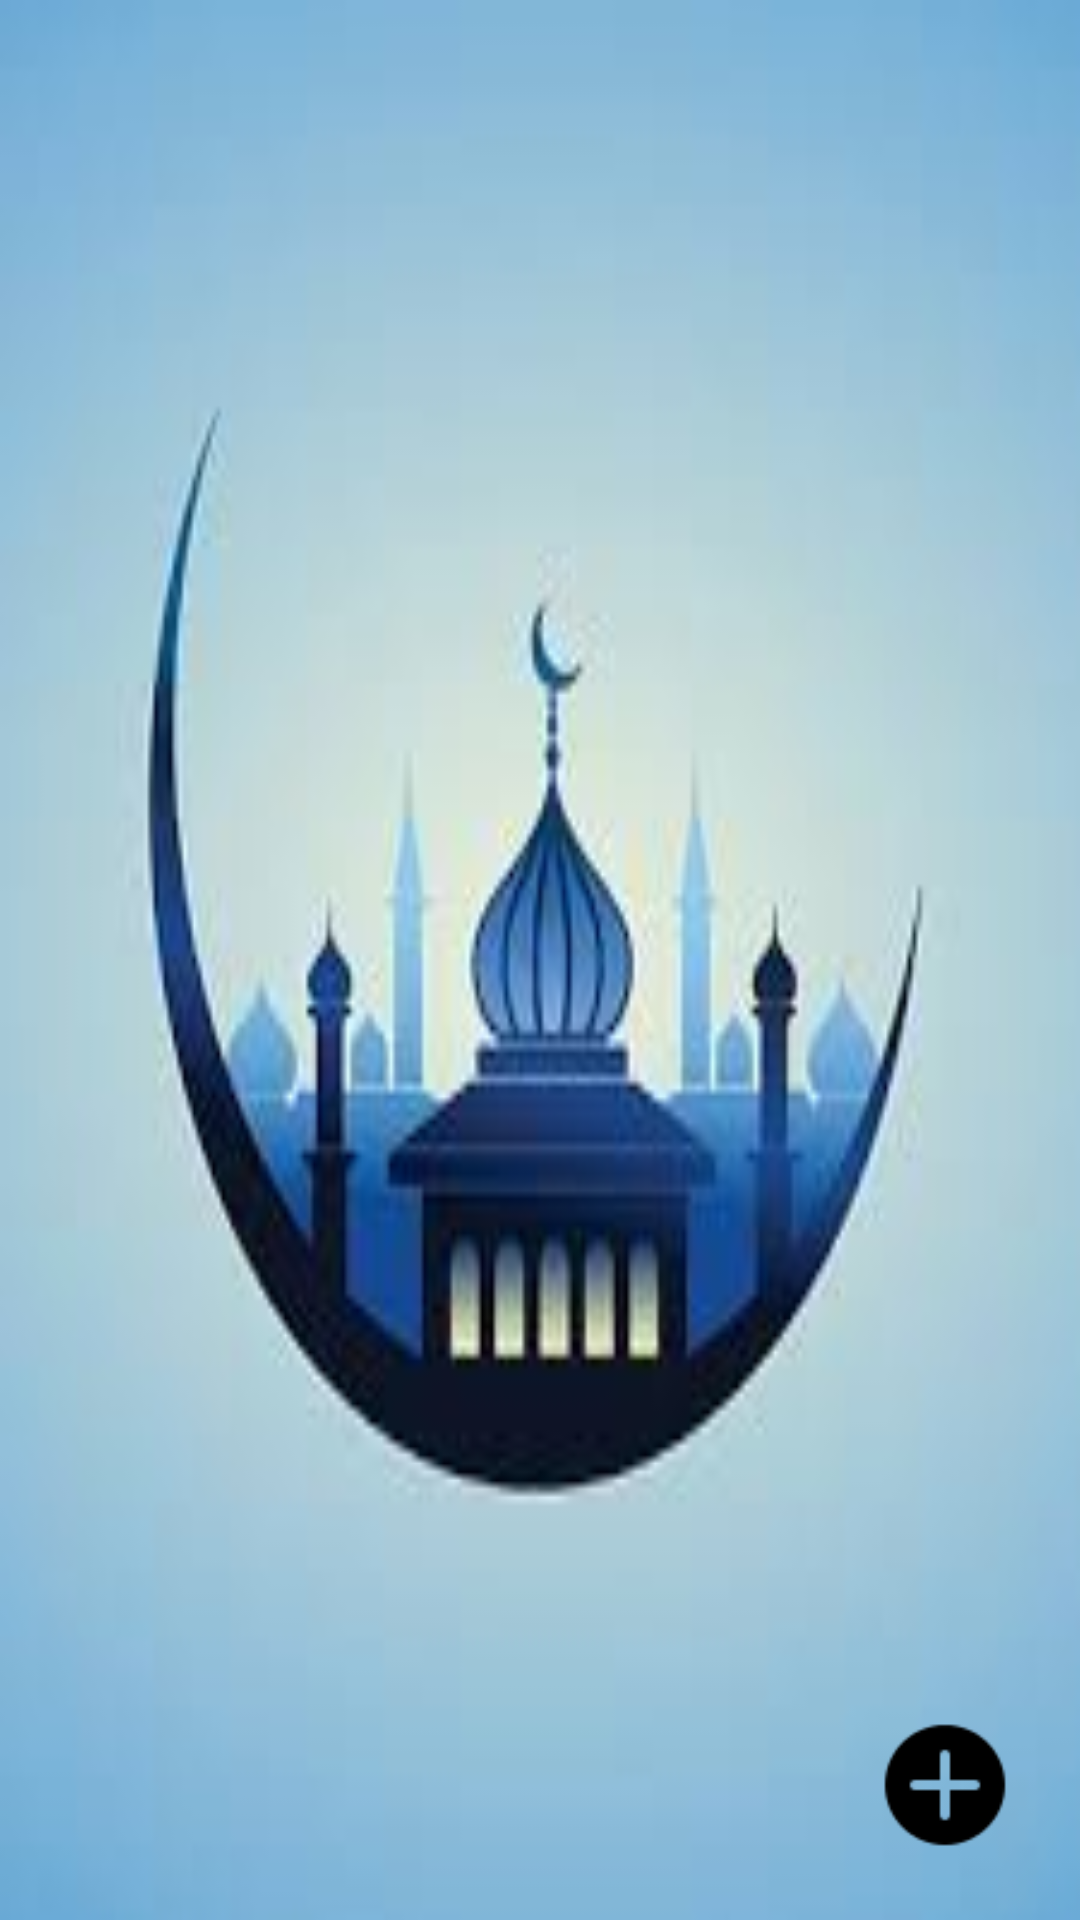

Where icons sit on this 1080 x 1920 app screen, as (x1, y1, x2, y2):
tambah: (884, 1724, 1006, 1846)
